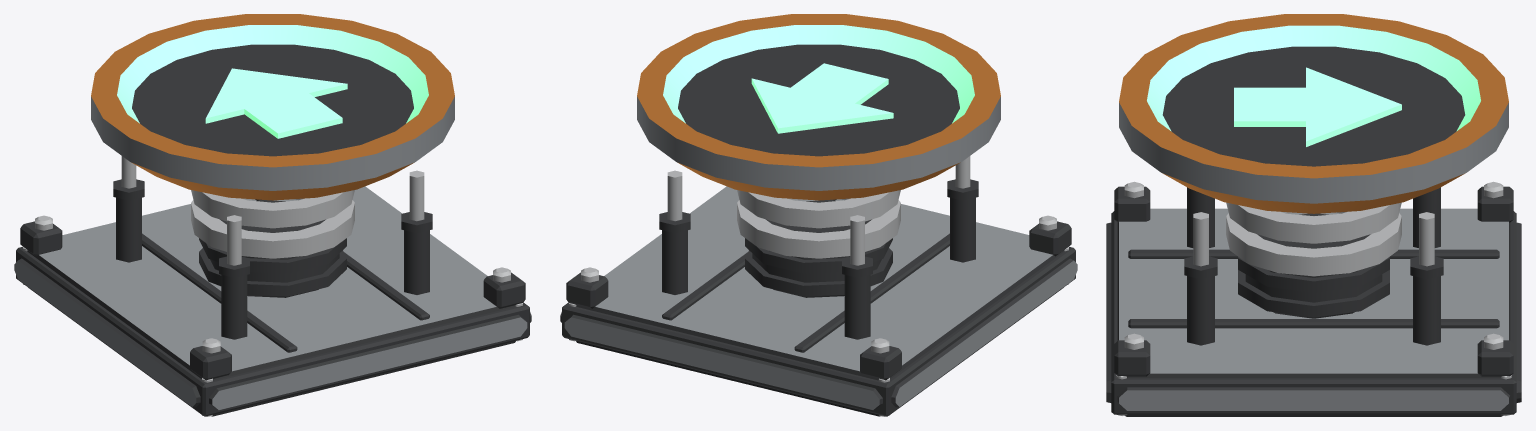
File: R4X_JumpPadDeployer.fbx
3 renders of one model, left to right at view 1: azimuth 30°, elevation 25°; view 2: azimuth 150°, elevation 25°; view 3: azimuth 270°, elevation 25°, orthographic. The views are drawn at different scales.
Parts seen in each view (by area): view 1: R4X_JumpPadDeployer_Body, R4X_JumpPadDeployer_Pad; view 2: R4X_JumpPadDeployer_Body, R4X_JumpPadDeployer_Pad; view 3: R4X_JumpPadDeployer_Body, R4X_JumpPadDeployer_Pad.
Boxes of the visible parts, left/top/right/bottom form: R4X_JumpPadDeployer_Body: left=14, top=156, right=531, bottom=416; R4X_JumpPadDeployer_Pad: left=91, top=14, right=454, bottom=200; R4X_JumpPadDeployer_Body: left=560, top=156, right=1077, bottom=416; R4X_JumpPadDeployer_Pad: left=637, top=14, right=1000, bottom=200; R4X_JumpPadDeployer_Body: left=1106, top=181, right=1521, bottom=416; R4X_JumpPadDeployer_Pad: left=1119, top=14, right=1508, bottom=213.
Size of the model in its own units: 0.52 by 0.33 by 0.52.
